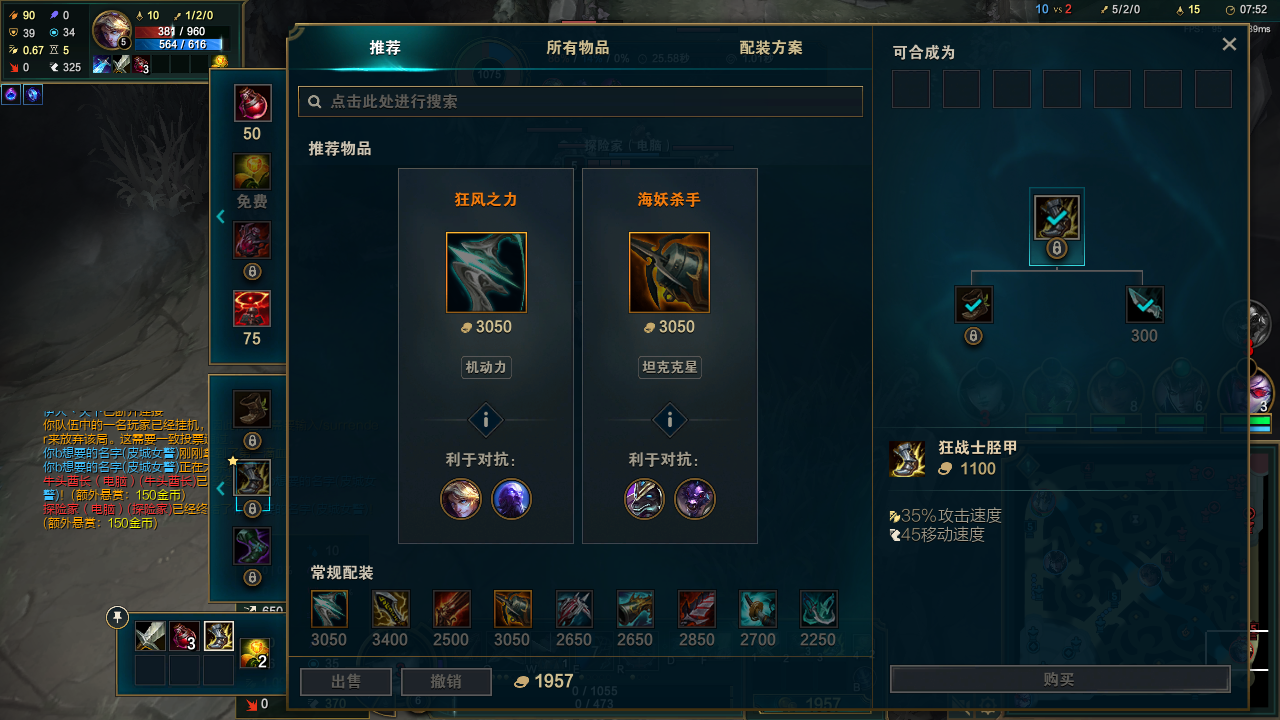GTH: (457, 394, 507, 443), (643, 400, 698, 432)
TJJM: (341, 36, 441, 72)
